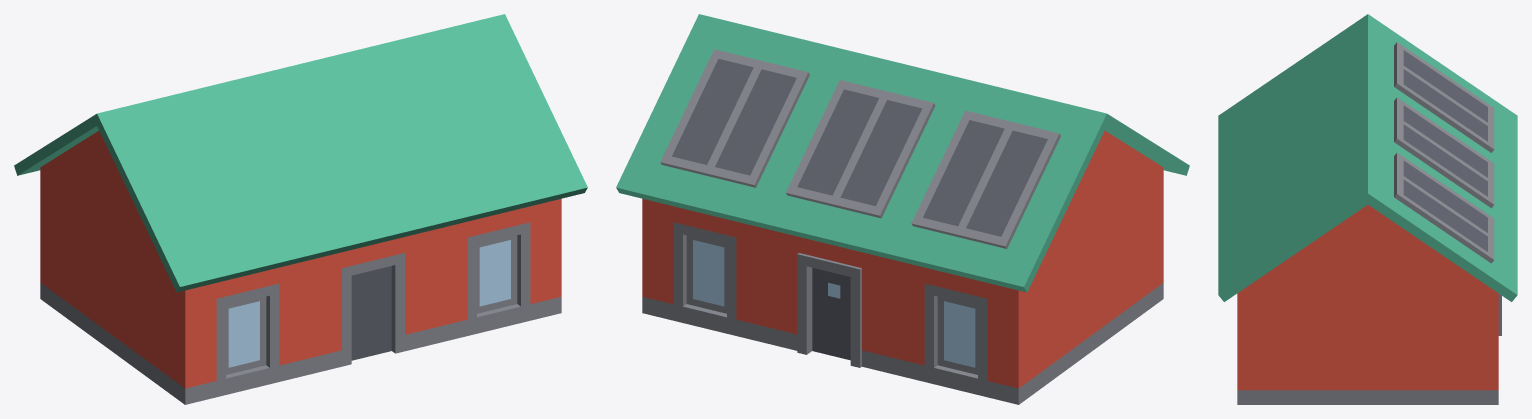
The model's file is house_type01.fbx.
The picture shows the model from 3 angles, left to right: view 1: azimuth 30°, elevation 25°; view 2: azimuth 150°, elevation 25°; view 3: azimuth 270°, elevation 25°; orthographic projection. The views are drawn at different scales.
Parts seen in each view (by area): view 1: house_type01; view 2: house_type01; view 3: house_type01.
Part boxes in pixels (left/top/right/bottom): house_type01: left=14, top=14, right=587, bottom=404; house_type01: left=616, top=14, right=1189, bottom=404; house_type01: left=1218, top=14, right=1517, bottom=404.
Size of the model in its own units: 13 by 7.38 by 9.16.
